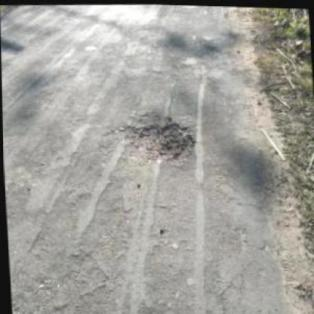Hueco: (111, 109, 197, 165)
